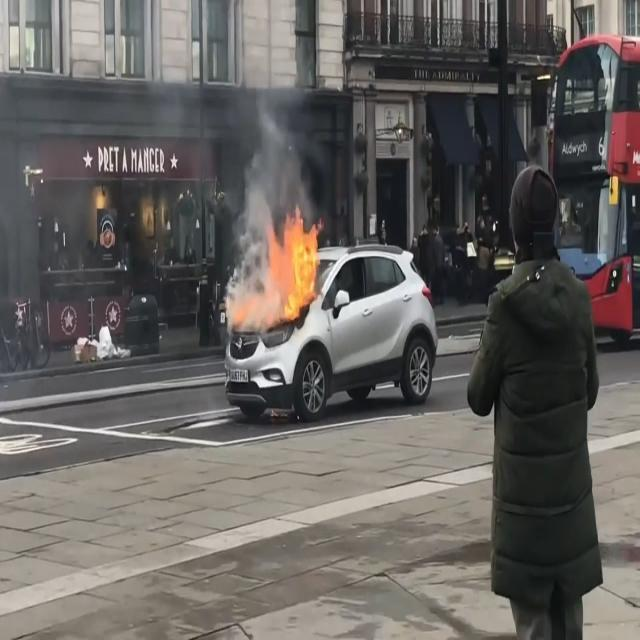fire: (233, 203, 326, 334)
